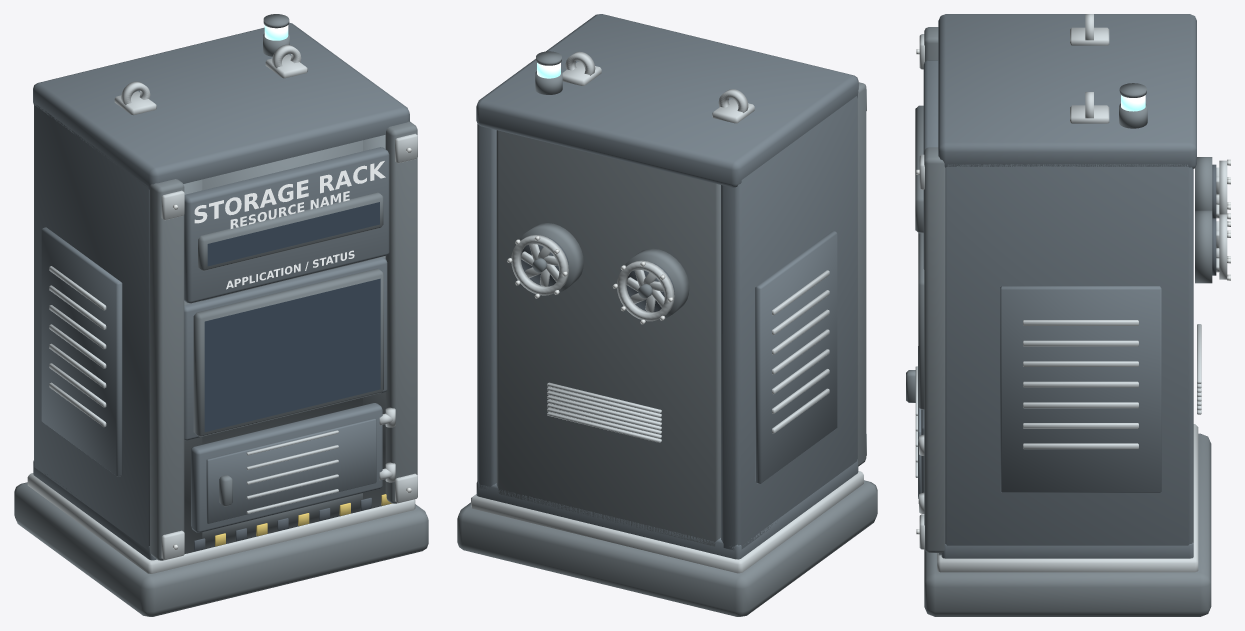
Rendered from storage_rack_enhanced.glb.
3 views of the same model, side by side, from view 1: azimuth 30°, elevation 25°; view 2: azimuth 150°, elevation 25°; view 3: azimuth 270°, elevation 25° (orthographic). The views are drawn at different scales.
Parts seen in each view (by area): view 1: Roof_graphite, SideWall_graphite, CornerPost_frame, LiveViewSurface_glass, Skid_frame, FrontHeader_graphite, SideServicePanel_graphite, DoorMoving_Inset_graphite, DoorMoving_Panel_graphite, SkidDeck_steel, LiveViewSurfaceFrame_frame, ScreenSupport_graphite (+16 smaller); view 2: BackWall_frame, SideWall_graphite, Roof_graphite, Skid_frame, SideServicePanel_graphite, SkidDeck_steel, KickPlate_graphite, RearFan_steel, RearVent_steel, CornerPost_frame, RearFan_frame, SideLouver_steel (+3 smaller); view 3: SideWall_graphite, Roof_graphite, SideServicePanel_graphite, Skid_frame, CornerPost_frame, SideLouver_steel, SkidDeck_steel, KickPlate_graphite, RearFan_frame, FrontHeader_graphite, RearFan_steel, LiftMount_steel (+7 smaller).
Part boxes in pixels (x1,y1,x2,y2): Roof_graphite: (33, 23, 409, 189); SideWall_graphite: (34, 103, 149, 550); CornerPost_frame: (150, 121, 417, 560); LiveViewSurface_glass: (204, 278, 380, 432); Skid_frame: (14, 482, 428, 616); FrontHeader_graphite: (184, 147, 389, 303); SideServicePanel_graphite: (41, 227, 122, 476); DoorMoving_Inset_graphite: (206, 418, 376, 523); DoorMoving_Panel_graphite: (191, 403, 382, 532); SkidDeck_steel: (27, 473, 415, 573); LiveViewSurfaceFrame_frame: (193, 268, 383, 436); ScreenSupport_graphite: (184, 257, 387, 440); BackWall_frame: (496, 130, 720, 546); SideWall_graphite: (477, 96, 857, 550); Roof_graphite: (476, 14, 858, 187); Skid_frame: (457, 480, 877, 616); SideServicePanel_graphite: (755, 231, 837, 483); SkidDeck_steel: (471, 471, 863, 573); KickPlate_graphite: (476, 459, 858, 559); RearFan_steel: (511, 235, 674, 321); RearVent_steel: (547, 382, 661, 442); CornerPost_frame: (857, 82, 866, 466); RearFan_frame: (519, 223, 689, 317); SideLouver_steel: (772, 270, 829, 433); SideWall_graphite: (945, 164, 1193, 545); Roof_graphite: (938, 14, 1196, 168); SideServicePanel_graphite: (1000, 286, 1161, 492); Skid_frame: (924, 433, 1211, 616); CornerPost_frame: (924, 27, 945, 552); SideLouver_steel: (1023, 320, 1138, 449); SkidDeck_steel: (937, 424, 1198, 572); KickPlate_graphite: (941, 542, 1193, 558); RearFan_frame: (1195, 157, 1212, 283); FrontHeader_graphite: (923, 60, 938, 269); RearFan_steel: (1216, 160, 1227, 279); LiftMount_steel: (1070, 27, 1109, 123).
Size of the model in its own units: 1.6 by 2.53 by 1.48.
